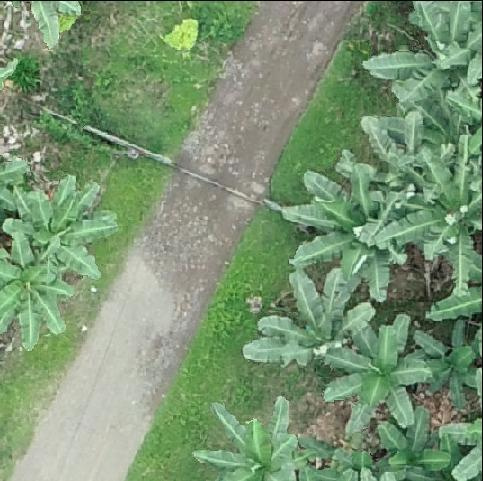Banana-plant: (380, 142, 483, 293), (349, 2, 483, 109), (292, 168, 399, 297), (242, 264, 375, 362), (323, 319, 427, 430), (5, 179, 121, 276), (194, 399, 301, 481), (0, 239, 72, 347), (410, 323, 483, 402), (368, 406, 445, 479)
